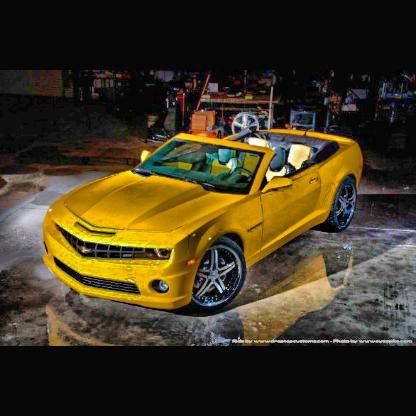Chevrolet Camaro Convertible 2012: (41, 125, 366, 320)
